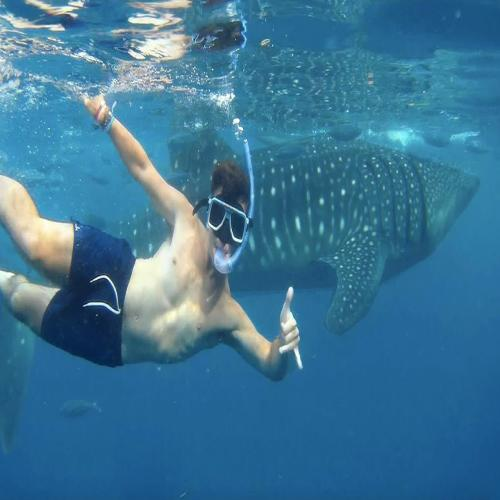shark-endangered: (254, 102, 478, 310)
